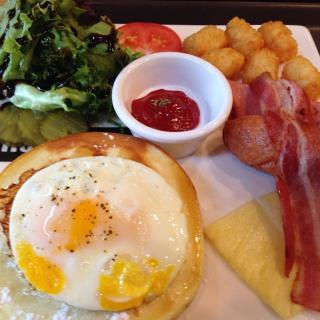tomato: (115, 24, 187, 48)
